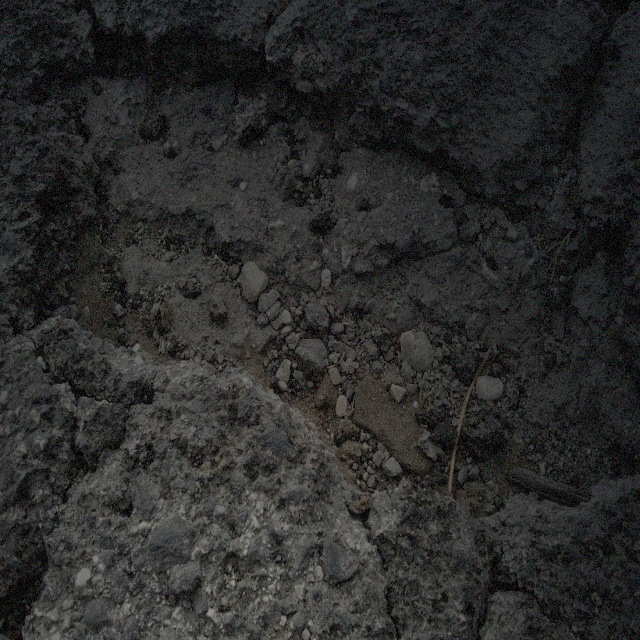pothole: (31, 24, 586, 538)
